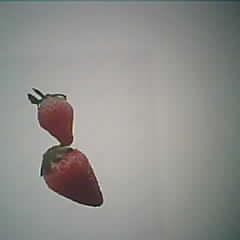straw-ripe: (42, 147, 104, 206), (37, 95, 73, 143)
